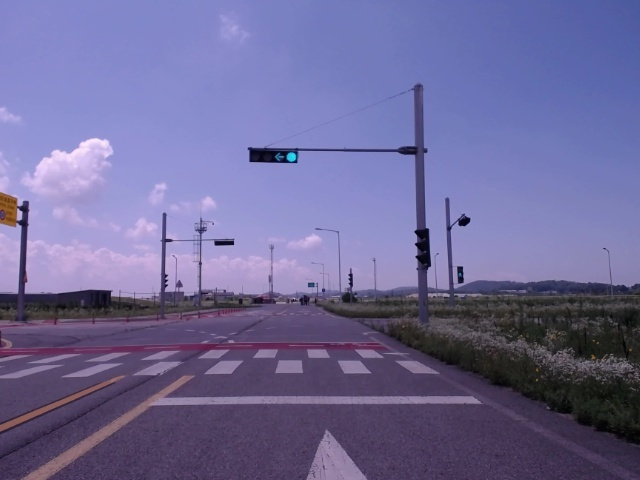all_green_4: (247, 144, 300, 162)
